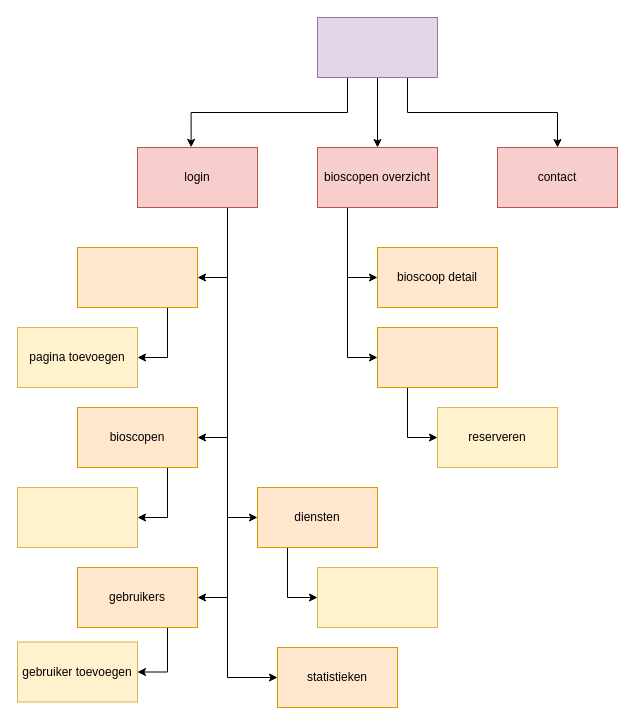
The diagram is 635 pixels wide and 725 high, and some of its shapes have lost their labels. The box of each missing label's shape, as (x1, y1, x2, y2) in pixels:
beschikbaarheid zalen: (376, 326, 498, 388)
bioscoop toevoegen: (16, 486, 138, 548)
dienst toevoegen: (316, 566, 438, 628)
landingpage: (316, 16, 438, 78)
pagina aanpassen: (76, 246, 198, 308)
